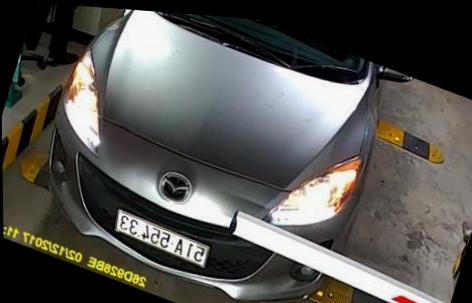License_Plate: (111, 207, 212, 269)
